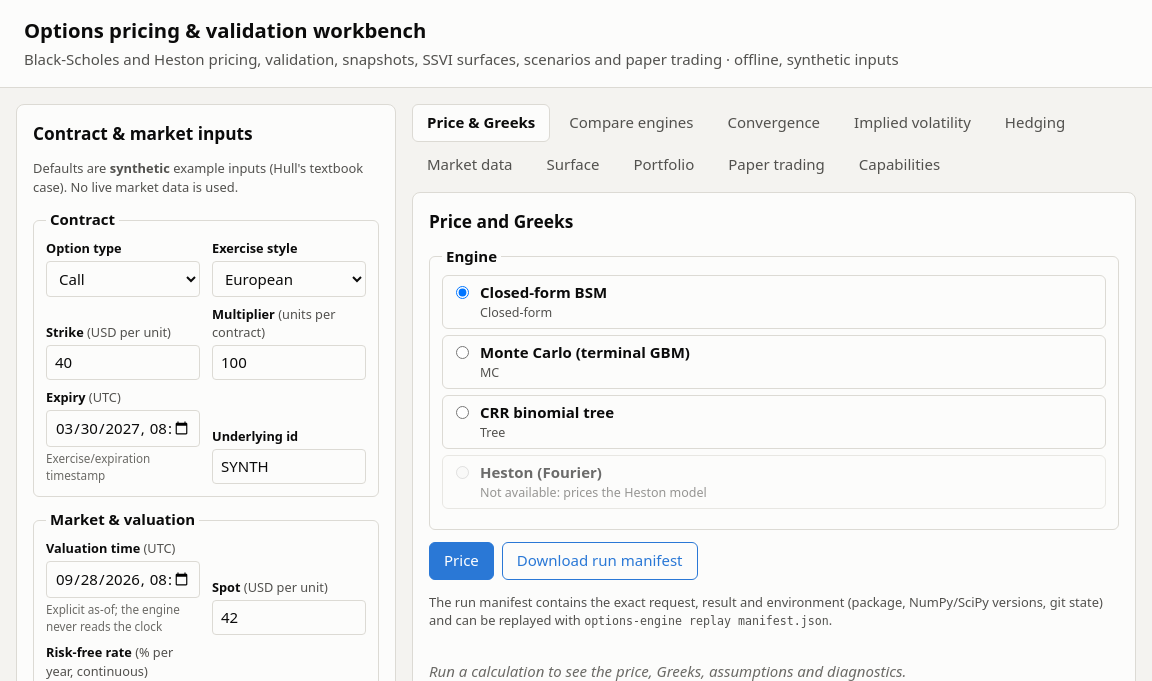
Test: App › disables engines that do not support American exercise
Expected: the text "Closed-form BSM" is shown, [480,282,607,302]
Select "American" in the dropdown labelled "Exercise style" at (289, 278), box [212,260,366,296]
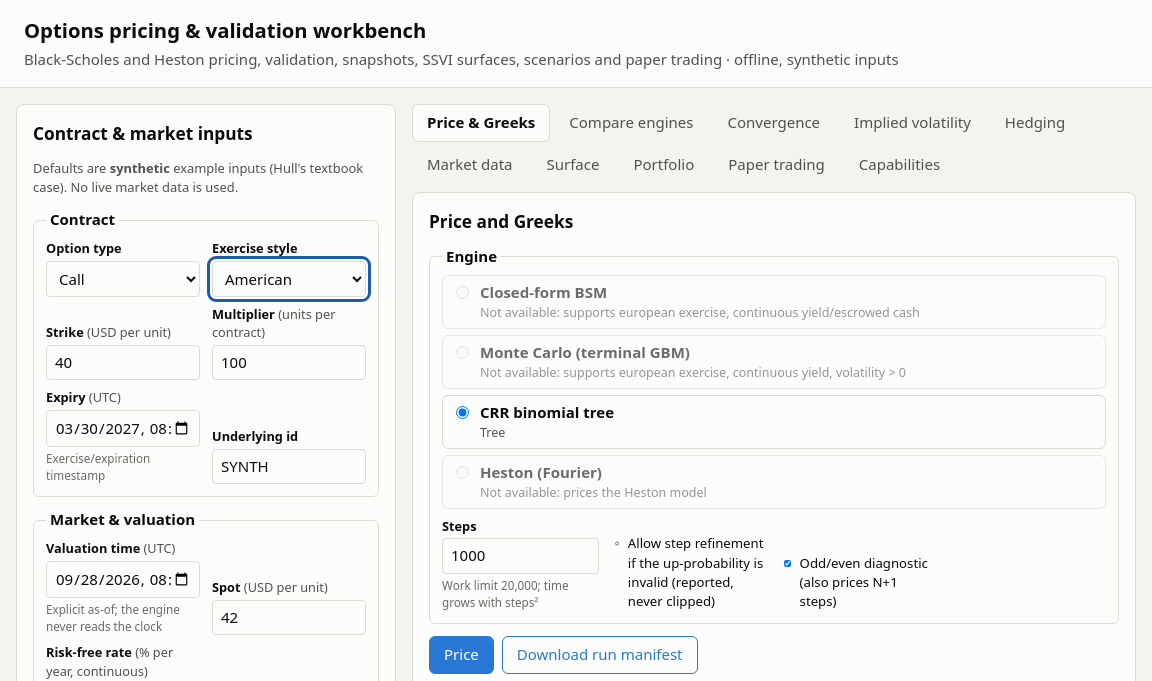
Expected: the radio button labelled "CRR binomial tree Tree" is enabled, [456,406,469,419]
Expected: the radio button labelled "Closed-form BSM" is disabled, [456,286,469,299]
Expected: the radio button labelled "CRR binomial tree Tree" is checked, [456,406,469,419]
